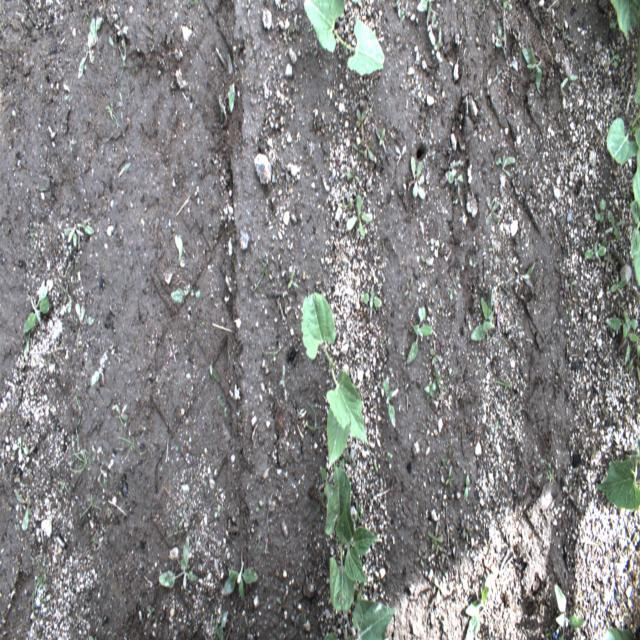crop: (300, 290, 367, 470), (325, 466, 378, 612), (303, 0, 385, 76), (604, 62, 640, 215), (596, 438, 640, 508), (322, 600, 396, 640), (608, 0, 639, 78), (600, 627, 638, 639)
weed: (220, 545, 262, 600), (158, 538, 198, 591), (604, 308, 639, 368), (23, 278, 54, 336), (77, 15, 104, 80), (554, 584, 584, 638), (406, 306, 433, 364), (462, 587, 490, 638), (469, 288, 496, 340), (346, 194, 373, 240), (164, 233, 186, 287), (380, 375, 400, 432), (112, 14, 129, 80), (62, 220, 96, 252), (522, 45, 542, 94), (406, 154, 426, 202), (117, 423, 141, 462), (432, 363, 459, 396), (87, 350, 110, 388), (13, 488, 32, 533), (602, 208, 627, 241), (30, 569, 46, 620), (169, 282, 203, 305), (69, 436, 89, 475), (78, 488, 102, 518), (492, 151, 516, 180), (360, 285, 383, 312), (560, 59, 580, 90), (483, 194, 500, 230), (626, 344, 640, 387), (415, 1, 435, 30), (514, 260, 534, 288), (75, 302, 96, 328), (11, 434, 29, 464), (228, 52, 236, 115), (426, 10, 440, 46), (583, 240, 607, 260), (426, 519, 444, 544), (444, 167, 465, 188), (113, 401, 128, 430), (360, 132, 374, 163), (610, 274, 628, 298), (75, 393, 83, 446), (216, 608, 228, 639), (608, 47, 622, 72), (240, 612, 254, 637), (96, 463, 108, 492), (428, 346, 443, 369), (354, 108, 366, 136), (594, 197, 606, 224), (413, 546, 428, 567), (91, 442, 104, 466), (375, 127, 386, 154), (286, 270, 300, 291), (444, 464, 455, 489), (346, 168, 362, 185), (424, 378, 436, 397), (59, 479, 72, 494), (464, 472, 470, 504)
